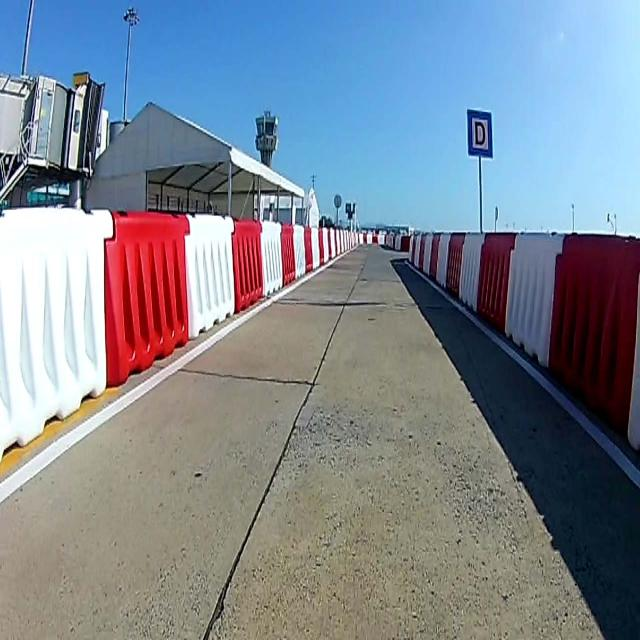durak: (466, 108, 492, 160)
